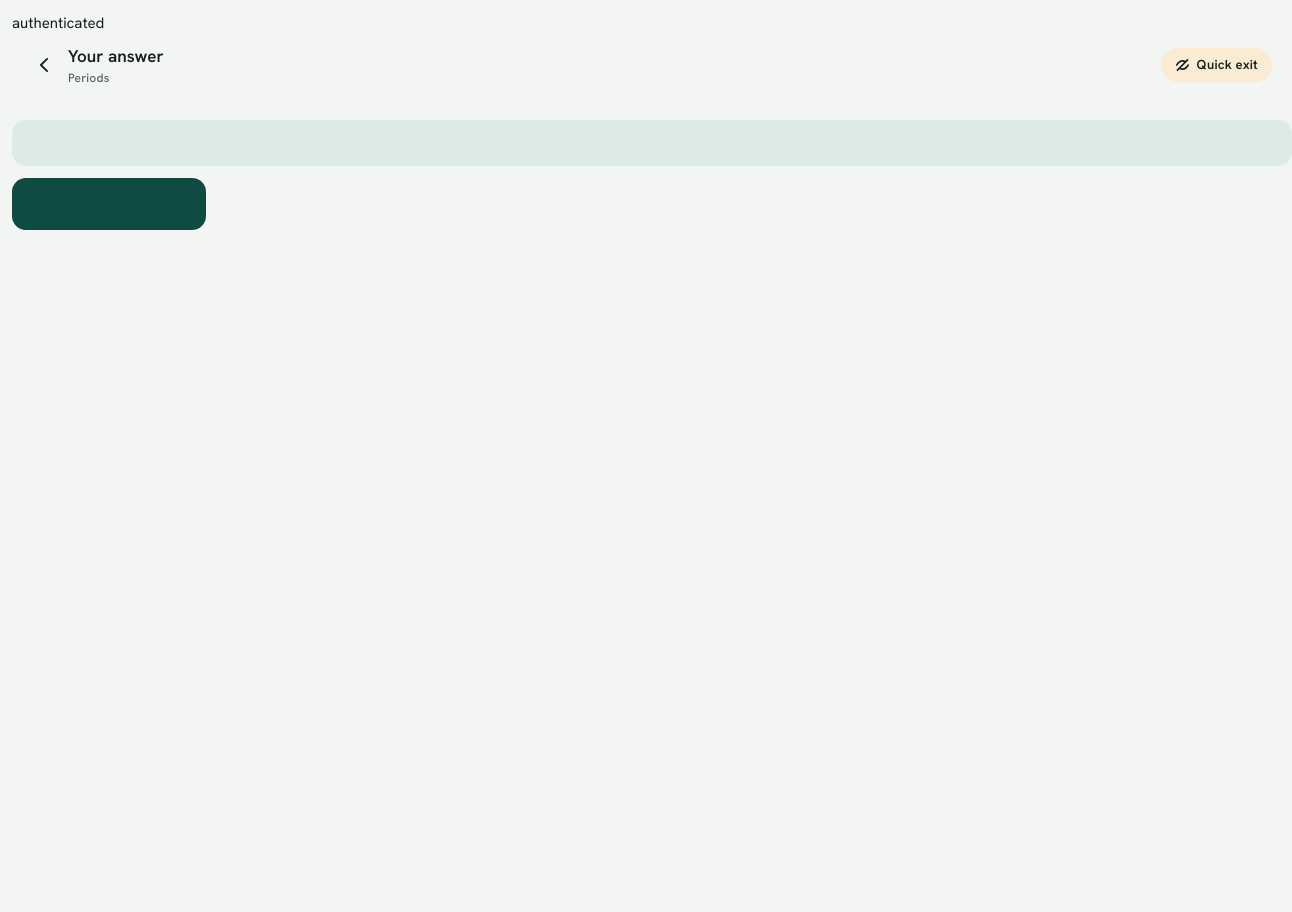
Nurse response (W11) › asks her to approve an answer above her limit, then pays
Click the button "Pay ₦500 and open it".
click(109, 204)  # box [12,178,206,230]
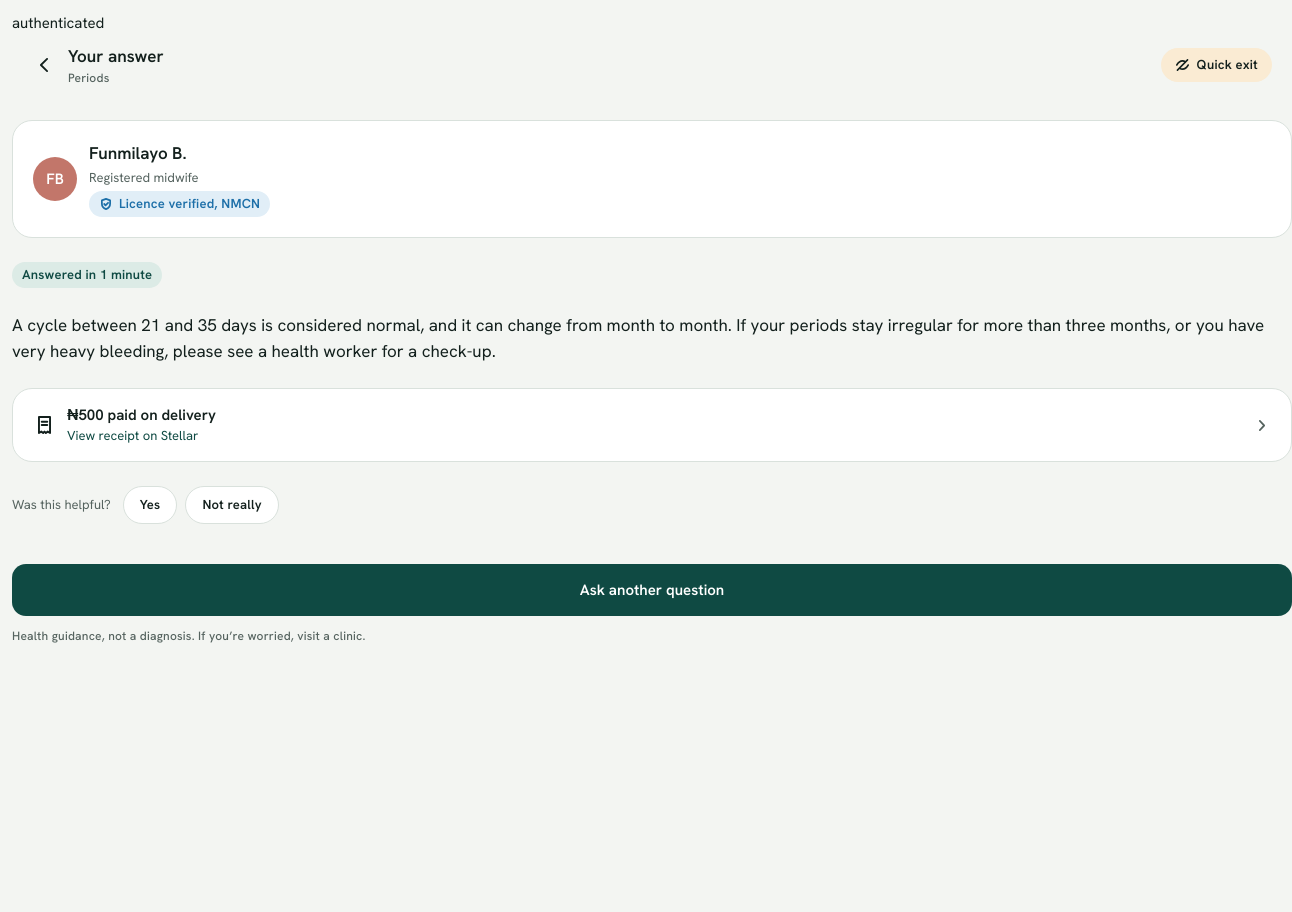
Expected: the text "Licence verified, NMCN" is shown, [89,191,270,217]
Expected: the text "View receipt on Stellar" is shown, [67,427,198,444]
